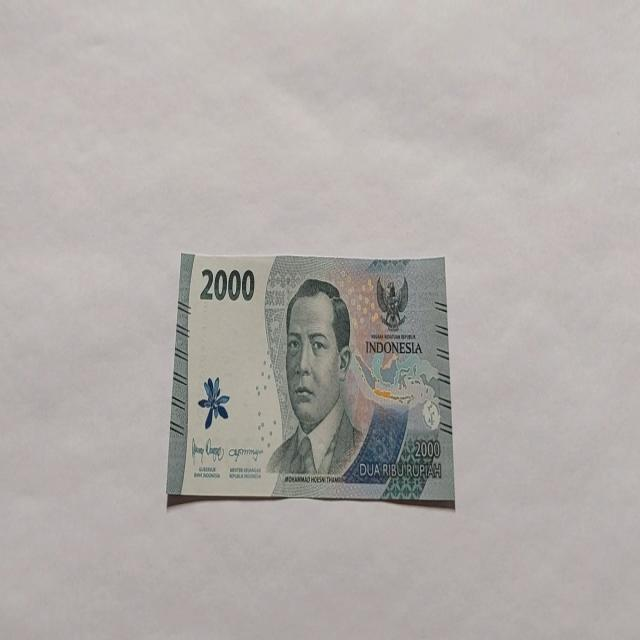dua ribu rupiah: (165, 250, 455, 508), (265, 276, 365, 478)
